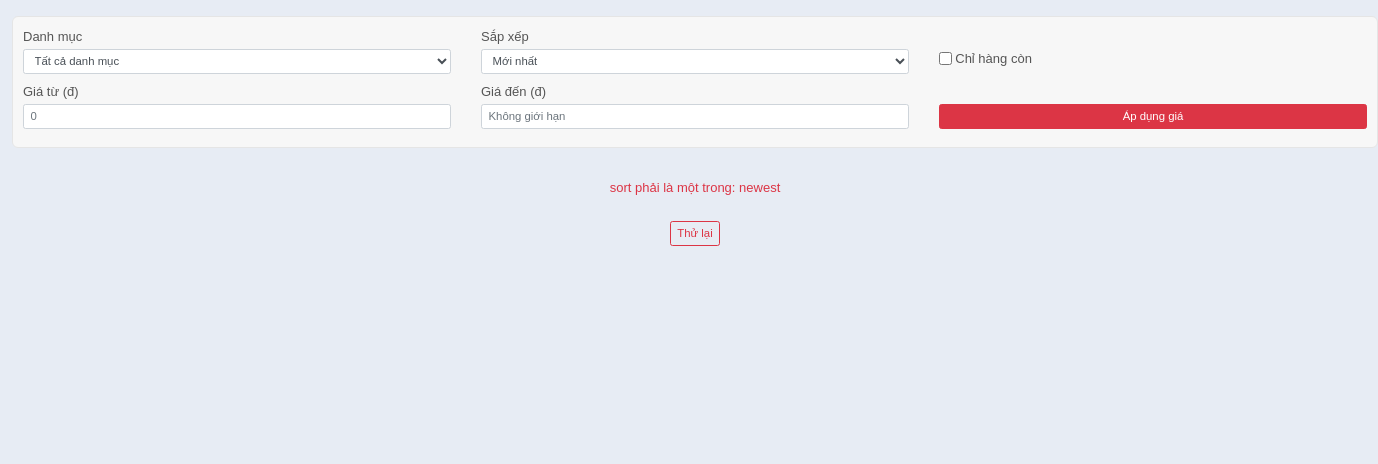
Test: API lỗi: hiện thông báo của backend và thử lại được
Check: the message shows "sort phải là một trong", box x1=610 y1=180 x2=780 y2=195
Click the button "Thử lại".
click(695, 233)  # box x1=670 y1=221 x2=720 y2=246
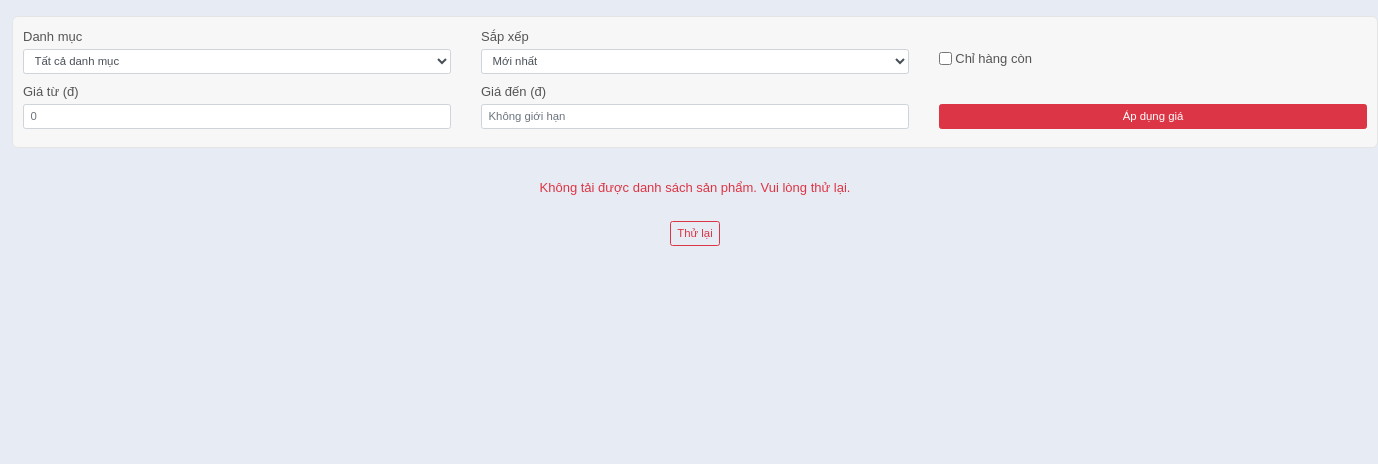
Check: the message shows "Không tải được danh sách sản phẩm", box x1=540 y1=180 x2=850 y2=195
Click the button "Thử lại".
click(695, 233)  # box x1=670 y1=221 x2=720 y2=246
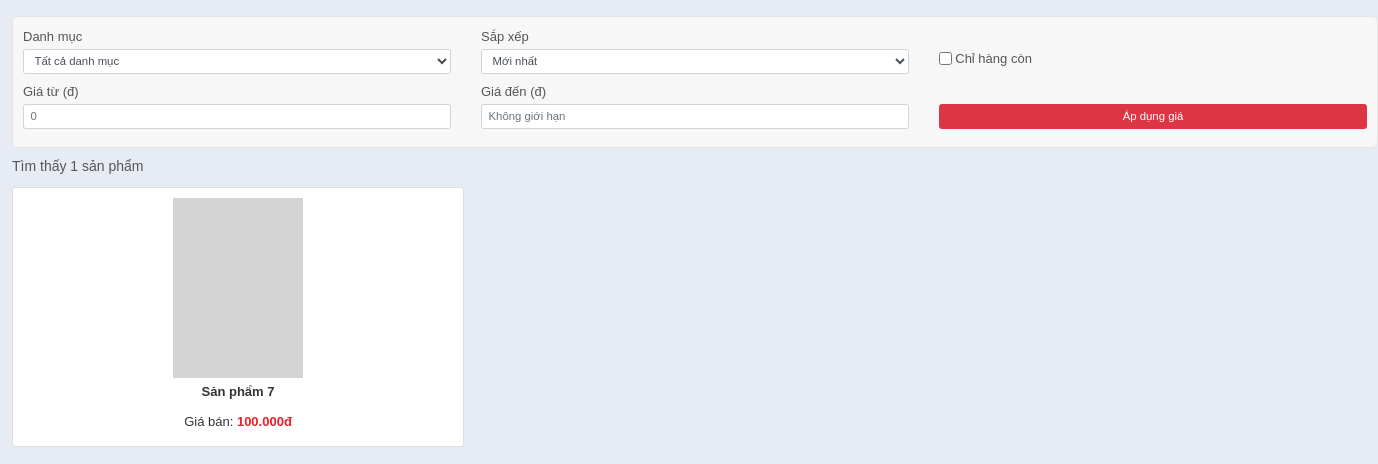
Check: the link "Sản phẩm 7" is shown, box x1=202 y1=384 x2=274 y2=399
